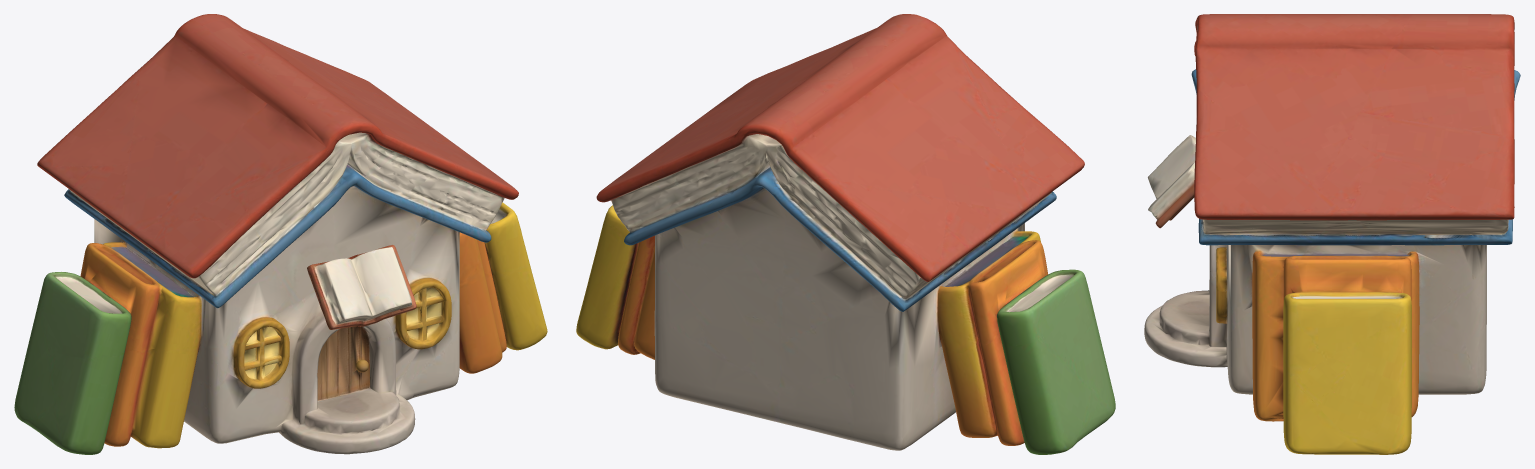
File: library.glb
3 views of the same model, side by side, from view 1: azimuth 30°, elevation 25°; view 2: azimuth 150°, elevation 25°; view 3: azimuth 270°, elevation 25° (orthographic). The views are drawn at different scales.
Parts seen in each view (by area): view 1: tripo_node_70607577-71b3-4dbe-b9c3-2ab28342d01b; view 2: tripo_node_70607577-71b3-4dbe-b9c3-2ab28342d01b; view 3: tripo_node_70607577-71b3-4dbe-b9c3-2ab28342d01b.
Part boxes in pixels (x1,y1,x2,y2): tripo_node_70607577-71b3-4dbe-b9c3-2ab28342d01b: (14,14,547,454); tripo_node_70607577-71b3-4dbe-b9c3-2ab28342d01b: (576,14,1115,454); tripo_node_70607577-71b3-4dbe-b9c3-2ab28342d01b: (1144,14,1520,454).
Size of the model in its own units: 0.9999 by 0.6177 by 0.651.
1 material, 1 textured.
